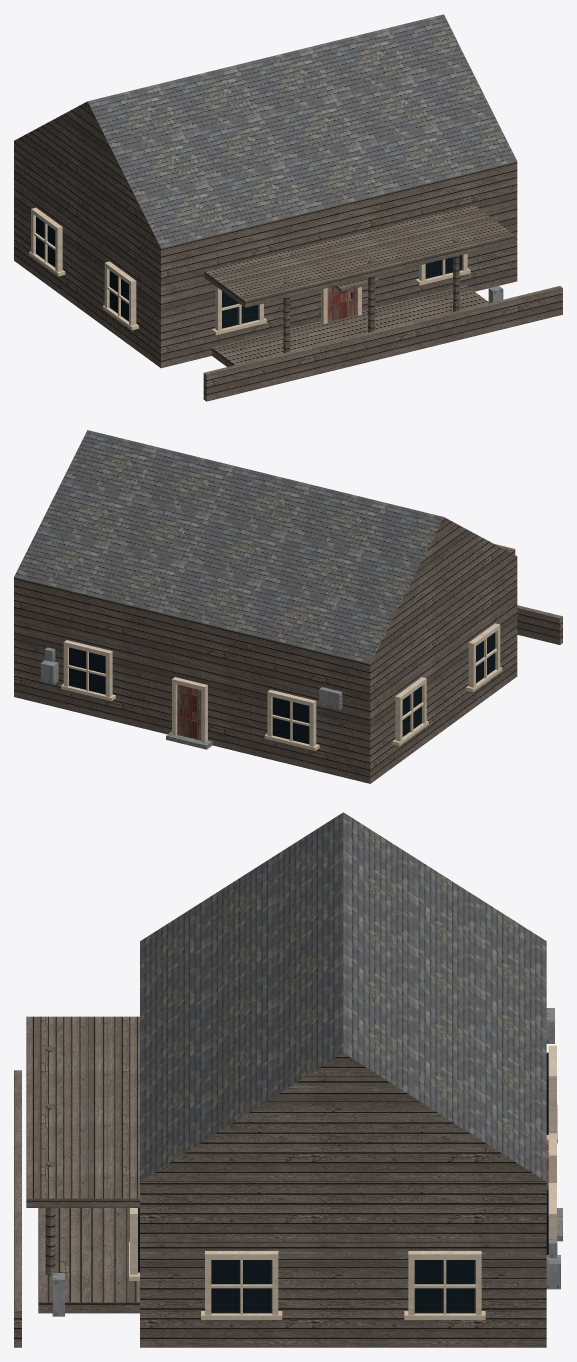
The model's file is craftsman-bungalow_lod0.gltf.
3 renders of one model, top to bottom at view 1: azimuth 30°, elevation 25°; view 2: azimuth 150°, elevation 25°; view 3: azimuth 270°, elevation 25°, orthographic. The views are drawn at different scales.
Visible parts, largest first — view 1: craftsman-bungalow_roof, craftsman-bungalow_walls, craftsman-bungalow_porch, craftsman-bungalow__fence, craftsman-bungalow_gable_ends, craftsman-bungalow_fen_04-limestone_0, craftsman-bungalow_fen_07-glass-curtain-blue_4_t, craftsman-bungalow_fen_19-red-timber_1; view 2: craftsman-bungalow_roof, craftsman-bungalow_walls, craftsman-bungalow_gable_ends, craftsman-bungalow_fen_04-limestone_0, craftsman-bungalow_fen_07-glass-curtain-blue_4_t, craftsman-bungalow__fence, craftsman-bungalow_fen_14-steel-panel_6, craftsman-bungalow_fen_19-red-timber_1, craftsman-bungalow_fen_19-red-timber_2_t; view 3: craftsman-bungalow_roof, craftsman-bungalow_walls, craftsman-bungalow_porch, craftsman-bungalow_gable_ends, craftsman-bungalow_fen_04-limestone_0, craftsman-bungalow_fen_07-glass-curtain-blue_4_t, craftsman-bungalow__fence, craftsman-bungalow_fen_14-steel-panel_6.
Boxes of the visible parts, left/top/right/bottom form: craftsman-bungalow_roof: left=87, top=14, right=516, bottom=248; craftsman-bungalow_walls: left=14, top=141, right=517, bottom=367; craftsman-bungalow_porch: left=204, top=205, right=515, bottom=366; craftsman-bungalow__fence: left=203, top=286, right=562, bottom=401; craftsman-bungalow_gable_ends: left=14, top=101, right=160, bottom=247; craftsman-bungalow_fen_04-limestone_0: left=29, top=207, right=470, bottom=335; craftsman-bungalow_fen_07-glass-curtain-blue_4_t: left=36, top=216, right=462, bottom=328; craftsman-bungalow_fen_19-red-timber_1: left=327, top=287, right=356, bottom=321; craftsman-bungalow_roof: left=14, top=430, right=443, bottom=663; craftsman-bungalow_walls: left=14, top=557, right=517, bottom=783; craftsman-bungalow_gable_ends: left=371, top=517, right=516, bottom=663; craftsman-bungalow_fen_04-limestone_0: left=61, top=623, right=502, bottom=750; craftsman-bungalow_fen_07-glass-curtain-blue_4_t: left=69, top=632, right=495, bottom=744; craftsman-bungalow__fence: left=517, top=605, right=562, bottom=644; craftsman-bungalow_fen_14-steel-panel_6: left=40, top=647, right=342, bottom=709; craftsman-bungalow_fen_19-red-timber_1: left=177, top=684, right=201, bottom=740; craftsman-bungalow_fen_19-red-timber_2_t: left=181, top=692, right=197, bottom=738; craftsman-bungalow_roof: left=140, top=812, right=546, bottom=1181; craftsman-bungalow_walls: left=140, top=1182, right=546, bottom=1347; craftsman-bungalow_porch: left=26, top=1016, right=139, bottom=1313; craftsman-bungalow_gable_ends: left=140, top=1053, right=546, bottom=1181; craftsman-bungalow_fen_04-limestone_0: left=129, top=1045, right=557, bottom=1319; craftsman-bungalow_fen_07-glass-curtain-blue_4_t: left=138, top=1052, right=548, bottom=1313; craftsman-bungalow__fence: left=14, top=1070, right=21, bottom=1347; craftsman-bungalow_fen_14-steel-panel_6: left=546, top=1008, right=560, bottom=1289.
Size of the model in its own units: 14.55 by 8.02 by 13.5.
